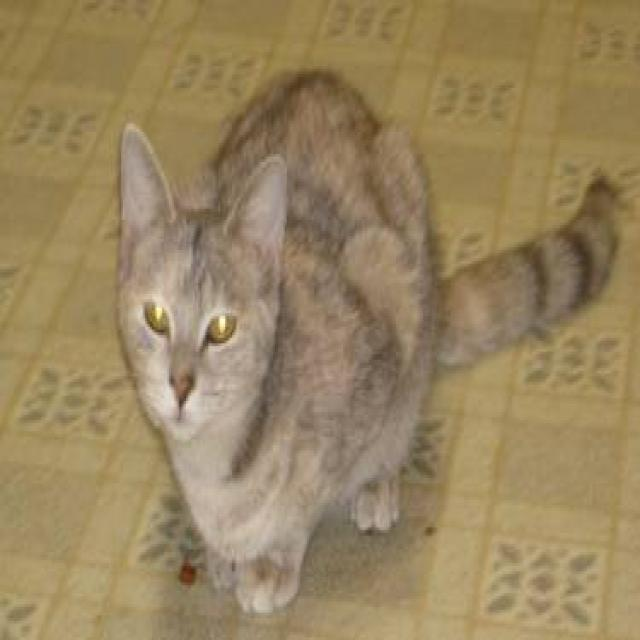cat: (113, 66, 626, 615)
